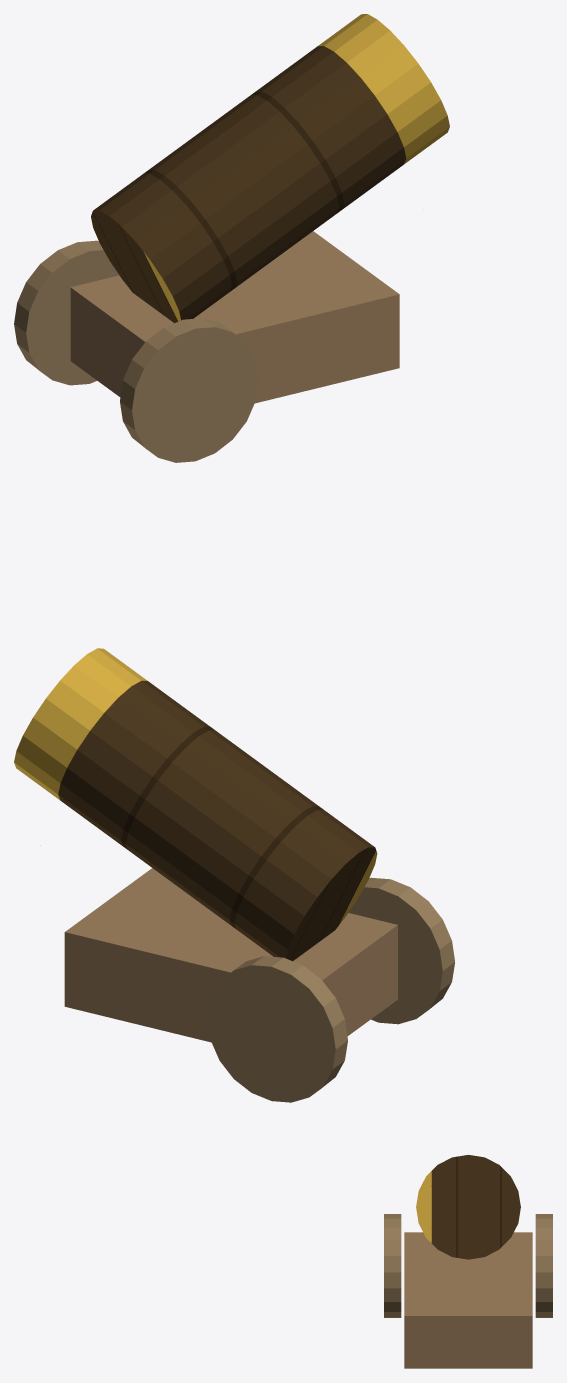
File: cannon_coupon_3d.glb
The picture shows the model from 3 angles, top to bottom: view 1: azimuth 30°, elevation 25°; view 2: azimuth 150°, elevation 25°; view 3: azimuth 270°, elevation 25°; orthographic projection. The views are drawn at different scales.
Parts seen in each view (by area): view 1: cannon_barrel, cannon_base, cannon_wheel_1, cannon_wheel_0; view 2: cannon_barrel, cannon_base, cannon_wheel_0, cannon_wheel_1; view 3: cannon_base, cannon_barrel, cannon_wheel_0, cannon_wheel_1.
Part boxes in pixels (left/top/right/bottom): cannon_barrel: left=91, top=14, right=449, bottom=322; cannon_base: left=70, top=231, right=399, bottom=403; cannon_wheel_1: left=120, top=318, right=258, bottom=462; cannon_wheel_0: left=14, top=240, right=118, bottom=385; cannon_barrel: left=14, top=648, right=377, bottom=961; cannon_base: left=64, top=868, right=397, bottom=1042; cannon_wheel_0: left=207, top=956, right=347, bottom=1102; cannon_wheel_1: left=348, top=877, right=454, bottom=1024; cannon_base: left=404, top=1232, right=532, bottom=1368; cannon_barrel: left=416, top=1155, right=520, bottom=1259; cannon_wheel_0: left=535, top=1214, right=552, bottom=1317; cannon_wheel_1: left=384, top=1214, right=401, bottom=1317.
Size of the model in its own units: 0.5084 by 0.4603 by 0.925.
7 materials, 3 textured.
